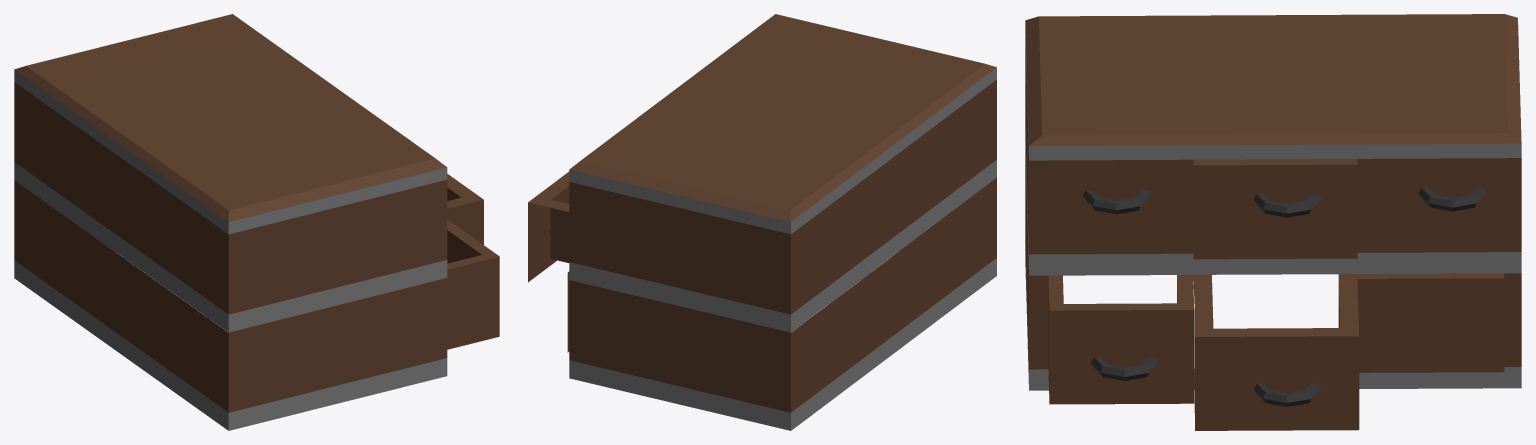
File: currentQuests.glb
3 views of the same model, side by side, from view 1: azimuth 30°, elevation 25°; view 2: azimuth 150°, elevation 25°; view 3: azimuth 270°, elevation 25° (orthographic). The views are drawn at different scales.
Visible parts, largest first — view 1: currentQuests; view 2: currentQuests; view 3: currentQuests.
Boxes of the visible parts, x1=… form: currentQuests: x1=14, y1=14, x2=499, y2=430; currentQuests: x1=528, y1=14, x2=996, y2=430; currentQuests: x1=1025, y1=14, x2=1521, y2=430.
Bounding box in the file's own units: 1.02 × 0.5864 × 1.05.
